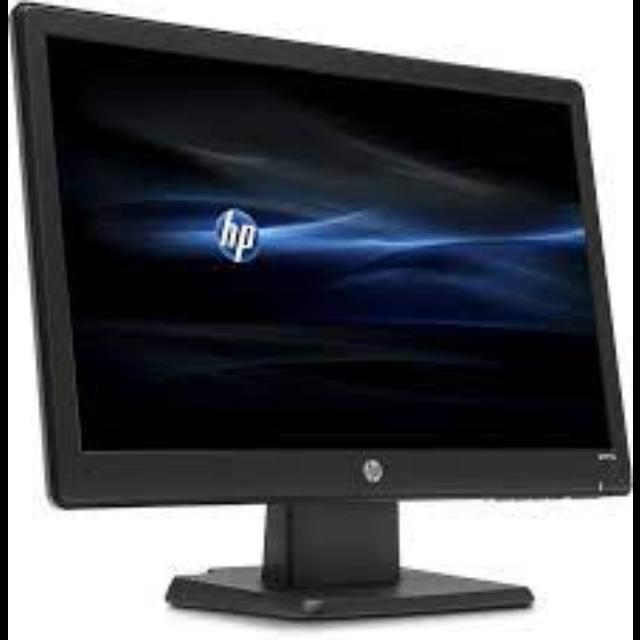Flat-Panel-Monitor: (7, 3, 627, 620)
